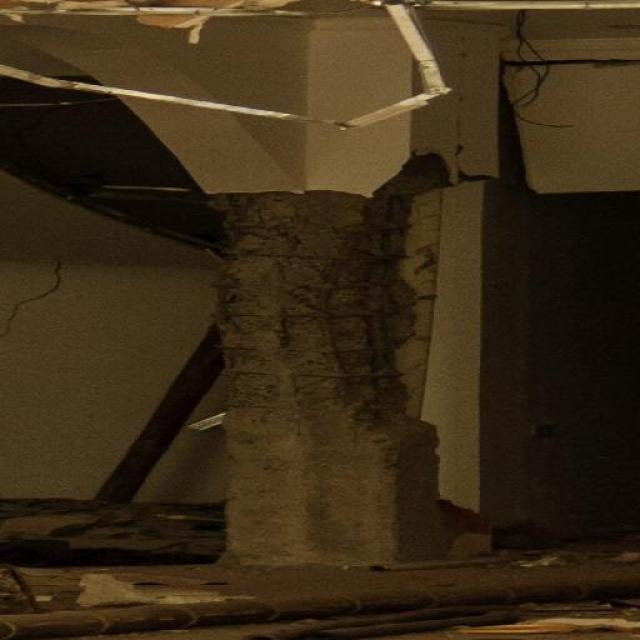D0w0: (216, 190, 414, 422)
